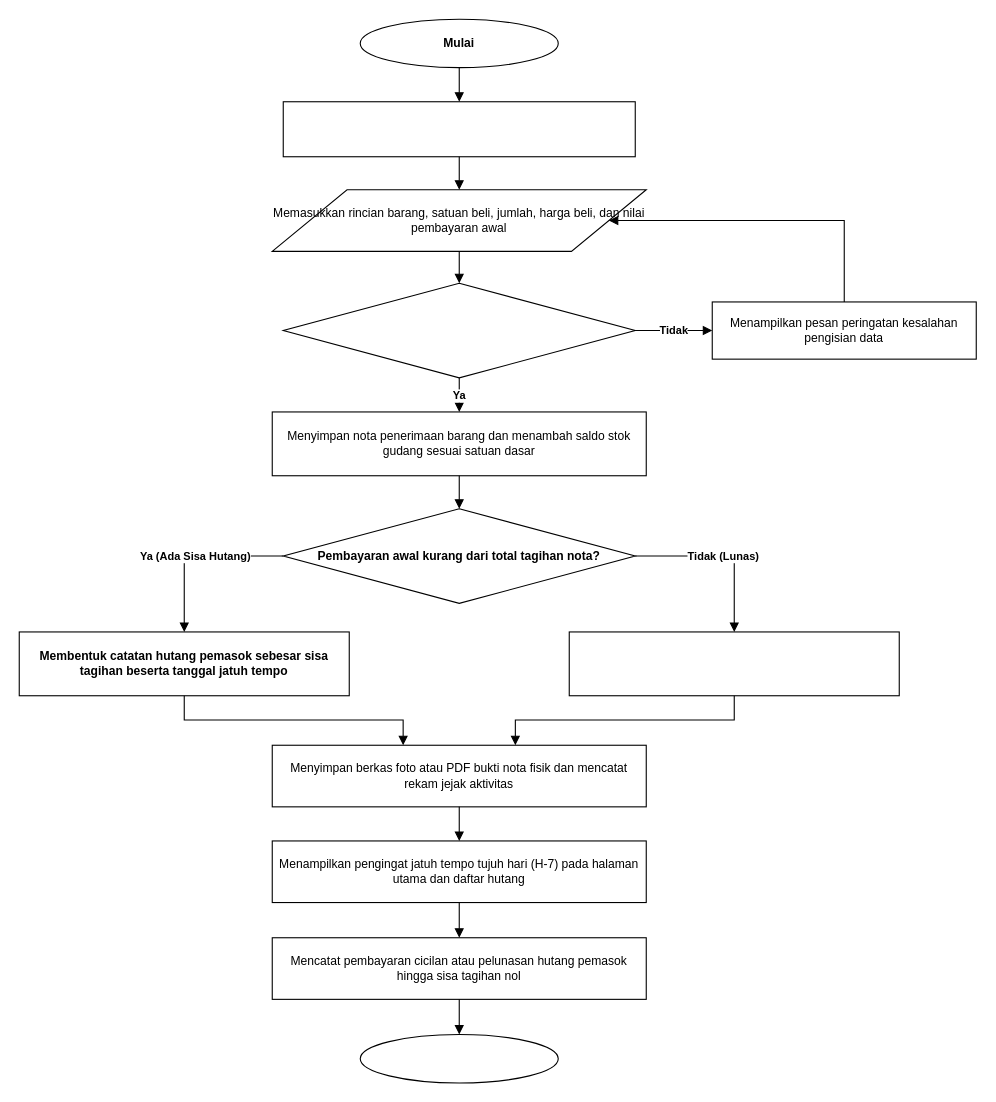
The diagram is 996 pixels wide and 1102 high, and some of its shapes have lost their labels. Here are the shapes that lost their labels. From the top down, the centre of each, then its label:
At (458,129): "Membuka halaman penerimaan barang dan memilih pemasok aktif".
At (458,330): "Rincian barang lengkap dan pembayaran valid?".
At (733,663): "Menandai nota penerimaan berstatus lunas tanpa membentuk catatan hutang".
At (458,1058): "Selesai".
